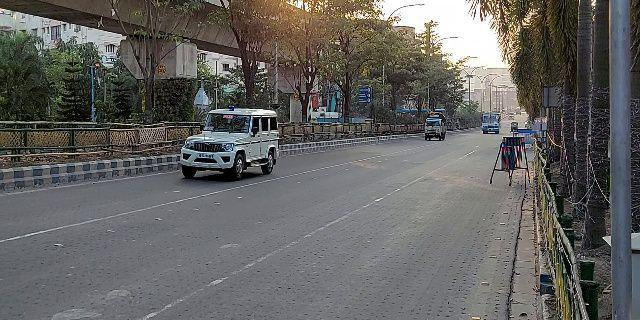Car: (174, 104, 281, 179)
Minitruck: (421, 112, 447, 143)
